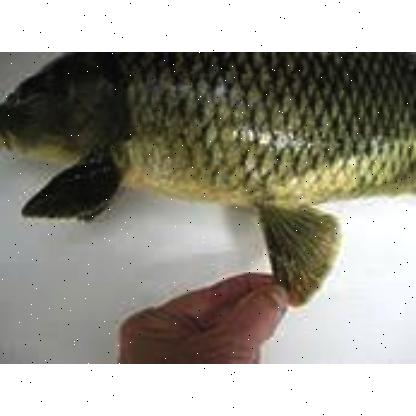ikan-mas: (0, 51, 416, 220)
